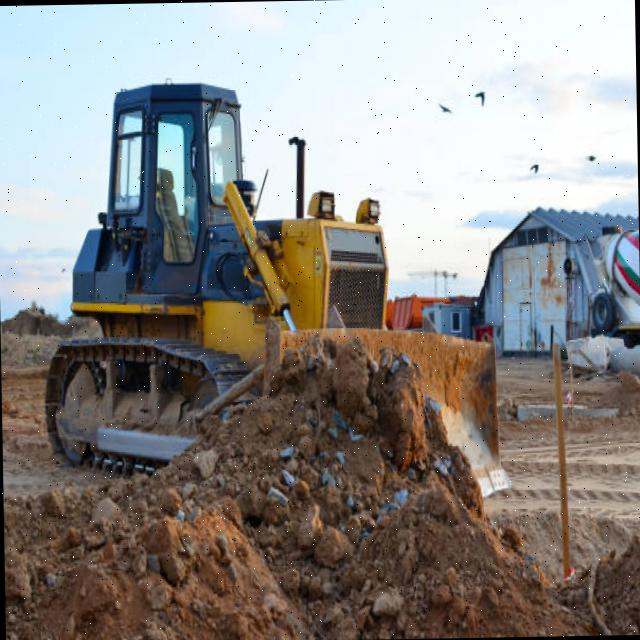Bulldozer: (37, 65, 509, 483)
